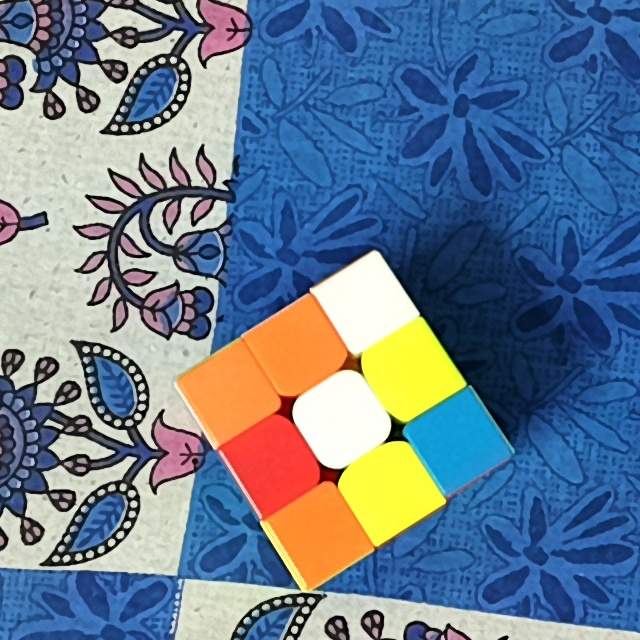tile: (314, 391, 371, 450), (274, 320, 332, 373), (433, 420, 491, 472), (293, 506, 343, 565), (382, 339, 430, 399), (345, 274, 394, 332), (361, 466, 417, 516), (206, 360, 255, 417), (246, 439, 301, 489)
